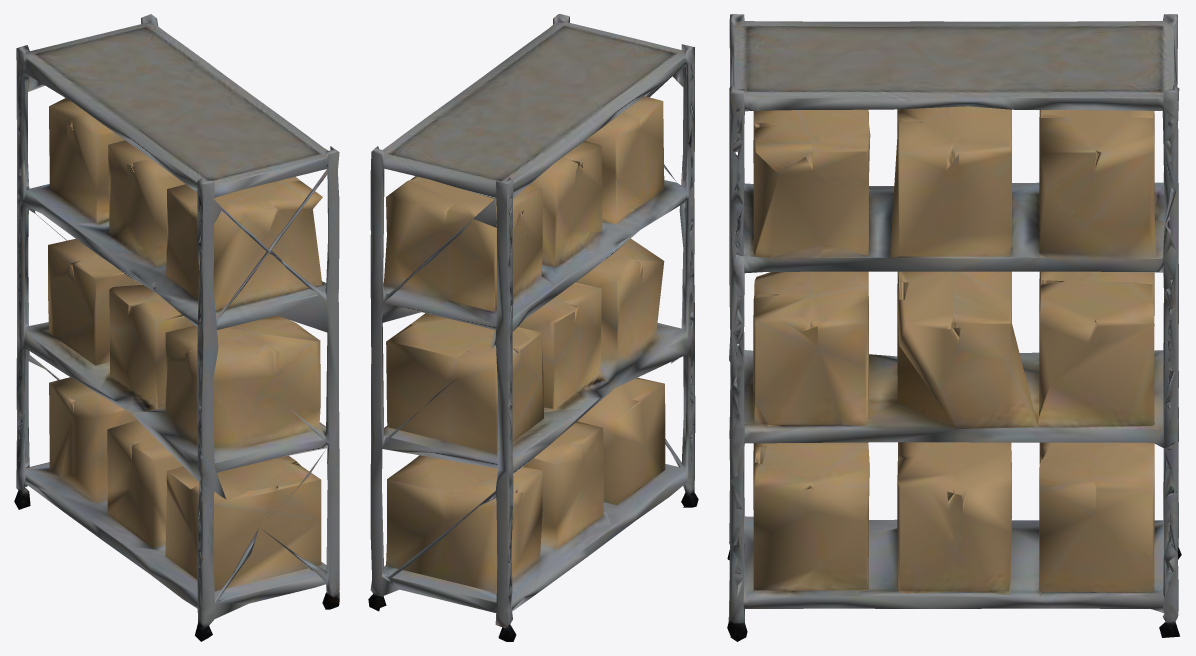
The model's file is shelving-v1.glb.
The picture shows the model from 3 angles, left to right: view 1: azimuth 30°, elevation 25°; view 2: azimuth 150°, elevation 25°; view 3: azimuth 270°, elevation 25°; orthographic projection. The views are drawn at different scales.
Parts seen in each view (by area): view 1: prop__shelving; view 2: prop__shelving; view 3: prop__shelving.
Boxes of the visible parts, left/top/right/bottom form: prop__shelving: left=14, top=14, right=339, bottom=641; prop__shelving: left=368, top=14, right=698, bottom=641; prop__shelving: left=727, top=14, right=1181, bottom=641.
Bounding box in the file's own units: 0.6664 × 2 × 1.49.
Materials: 1 (1 with a texture image).
